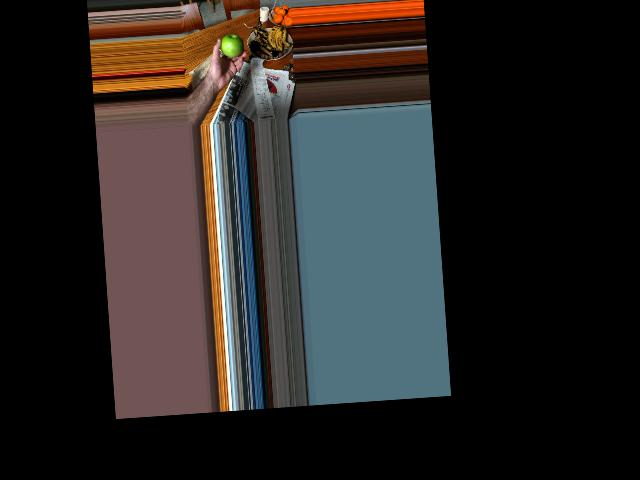apple: (220, 32, 244, 57)
